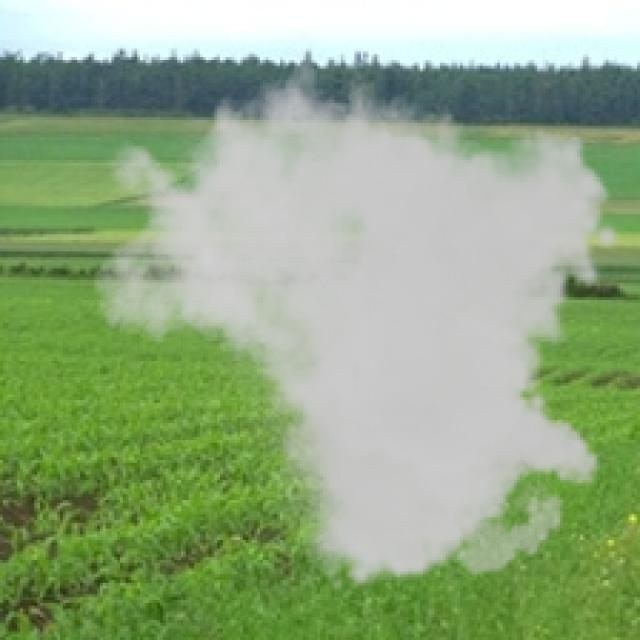smoke: (91, 34, 623, 592)
